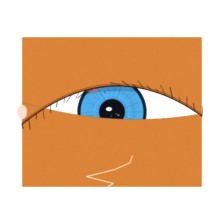foreign_body_visible: (78, 74, 105, 96)
